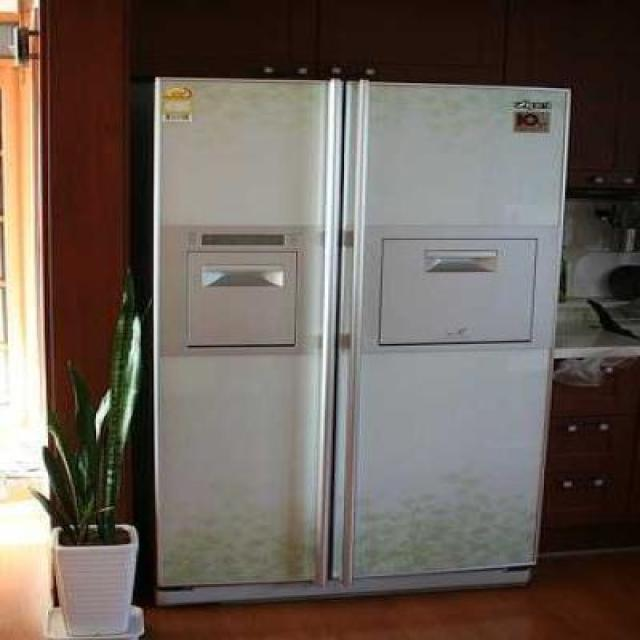refrigerator: (150, 75, 574, 584)
